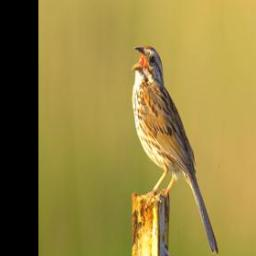Sparrow: (132, 43, 220, 253)
